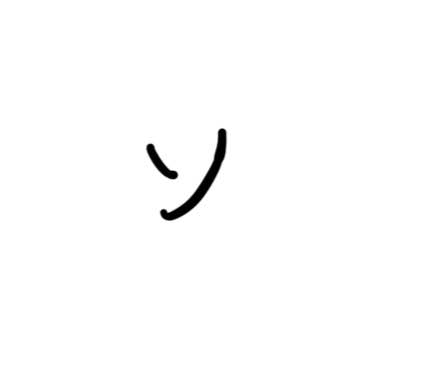n: (137, 122, 234, 228)
